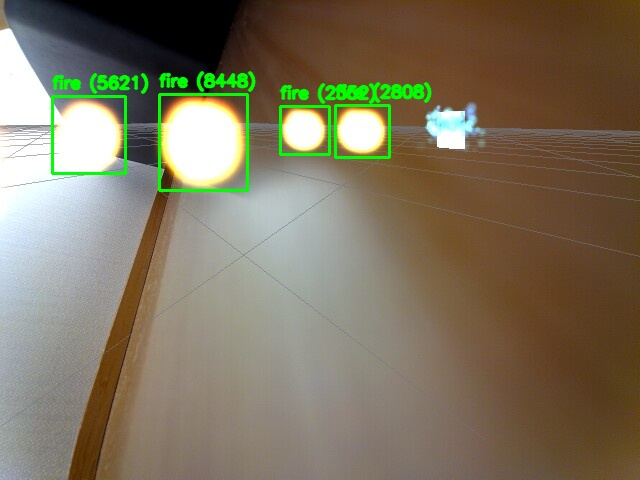fire: (159, 94, 247, 190), (52, 96, 125, 173), (335, 105, 389, 157), (280, 106, 329, 154)
